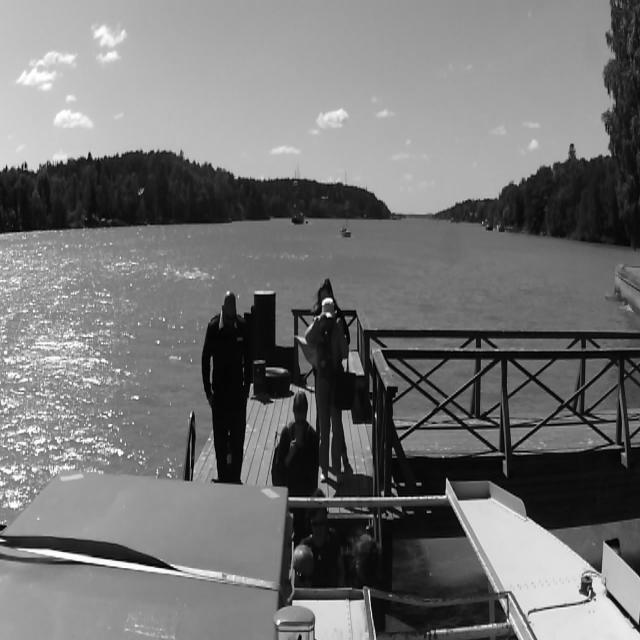ship: (290, 164, 304, 225), (340, 168, 352, 239)
